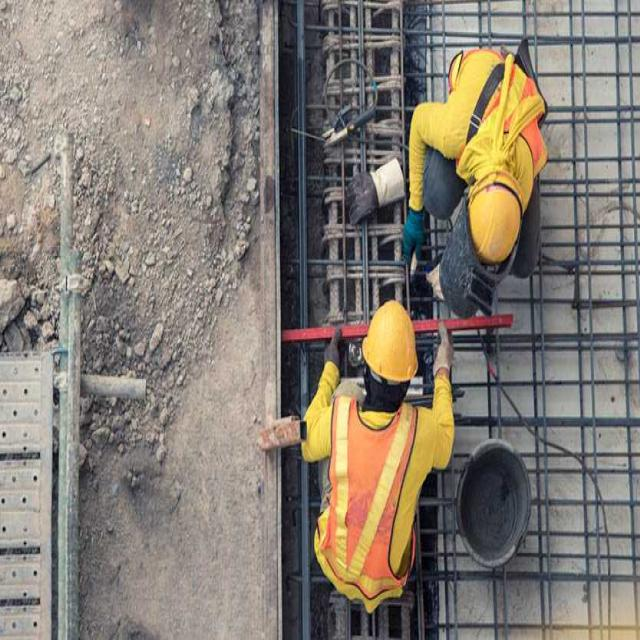Reflective-Jacket: (312, 394, 423, 592), (424, 42, 548, 201)
Safety-Helmet: (358, 296, 420, 392), (467, 169, 521, 266)
